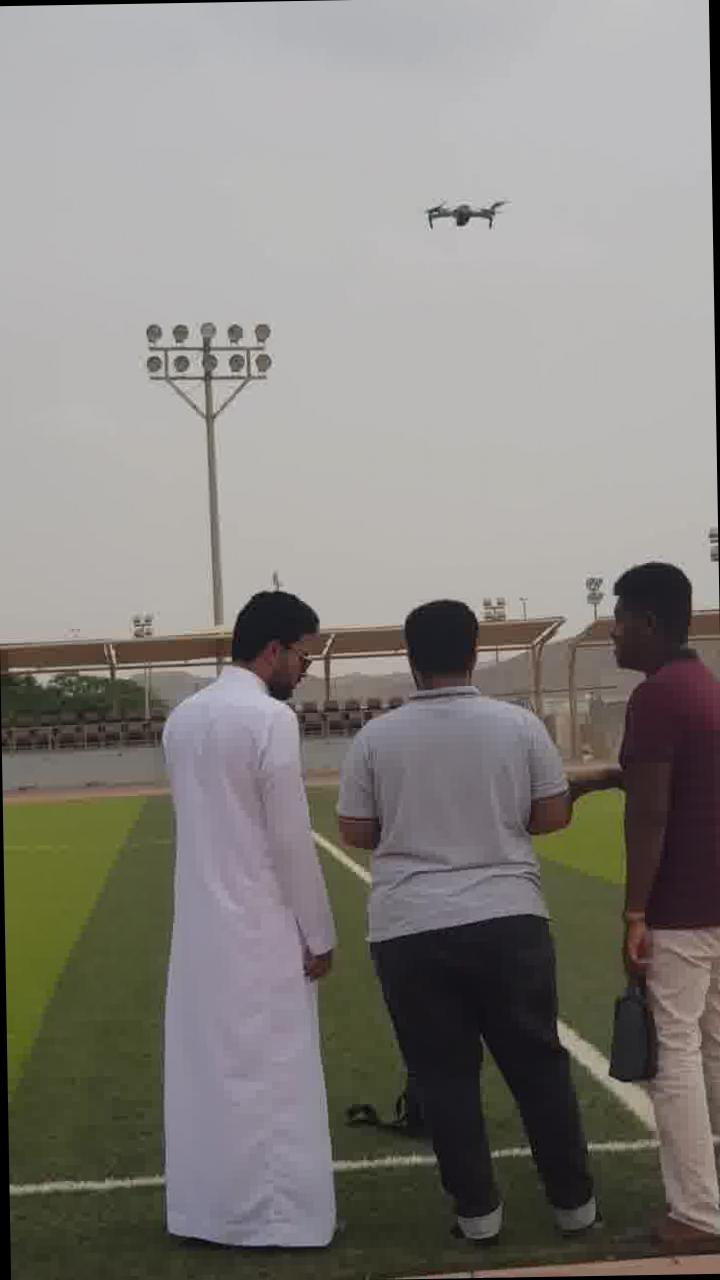drone: (412, 189, 513, 237)
